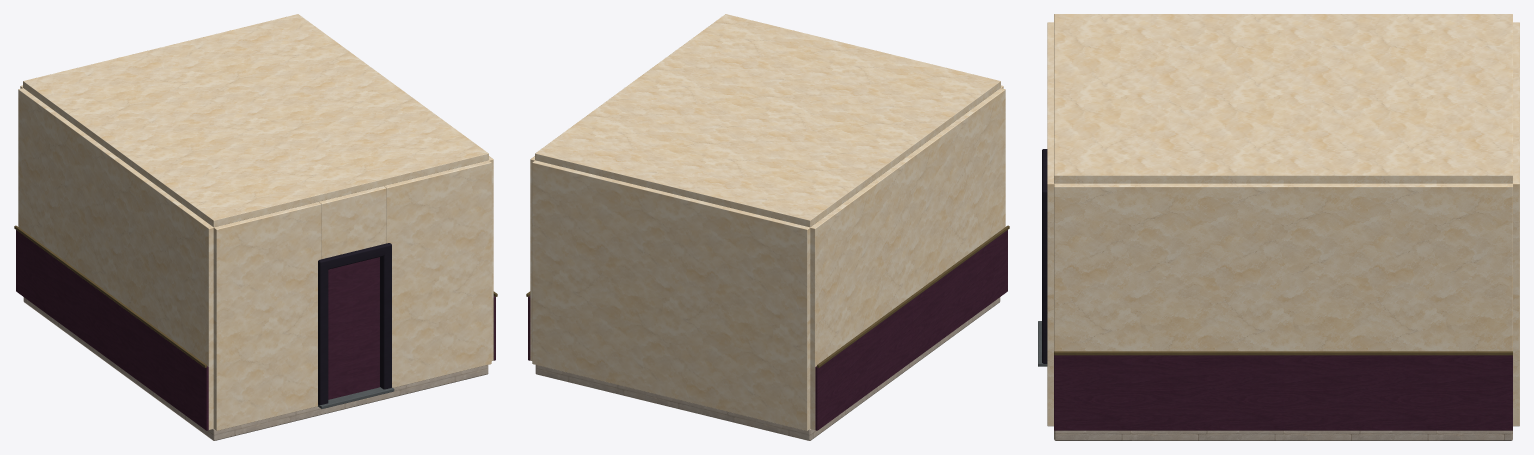
The model's file is explore3d__ticket_booth.glb.
The picture shows the model from 3 angles, left to right: view 1: azimuth 30°, elevation 25°; view 2: azimuth 150°, elevation 25°; view 3: azimuth 270°, elevation 25°; orthographic projection. The views are drawn at different scales.
Parts seen in each view (by area): view 1: Runtime_local_ticket_booth; view 2: Runtime_local_ticket_booth; view 3: Runtime_local_ticket_booth.
Part boxes in pixels (x1,y1,x2,y2): Runtime_local_ticket_booth: (14, 14, 497, 440); Runtime_local_ticket_booth: (526, 14, 1009, 440); Runtime_local_ticket_booth: (1038, 14, 1519, 440).
Bounding box in the file's own units: 5.32 × 3.84 × 6.3.
Materials: 10 (9 with a texture image).
